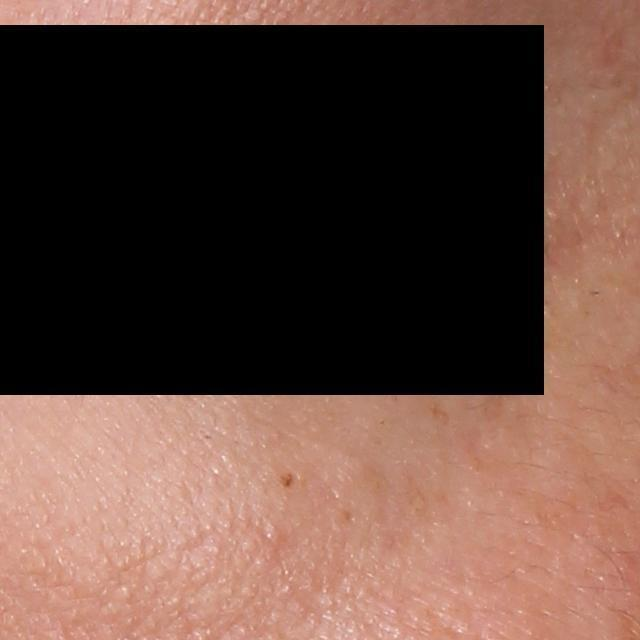nevus: (276, 471, 299, 492)
